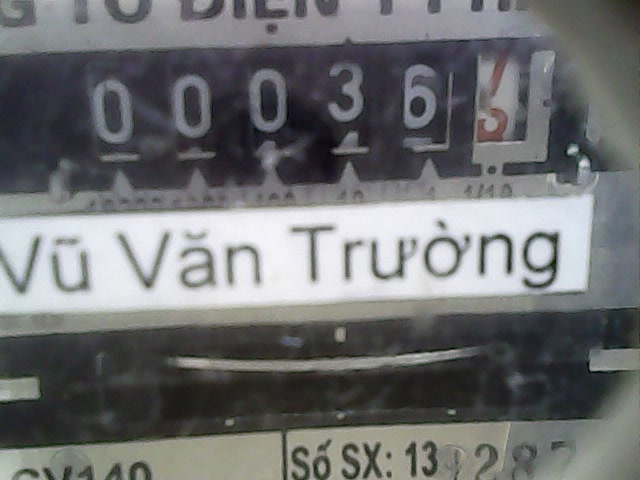phy_plate: (77, 36, 556, 174)
